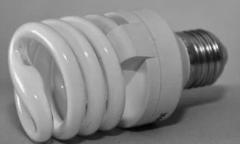lightbulb: (7, 8, 227, 142)
